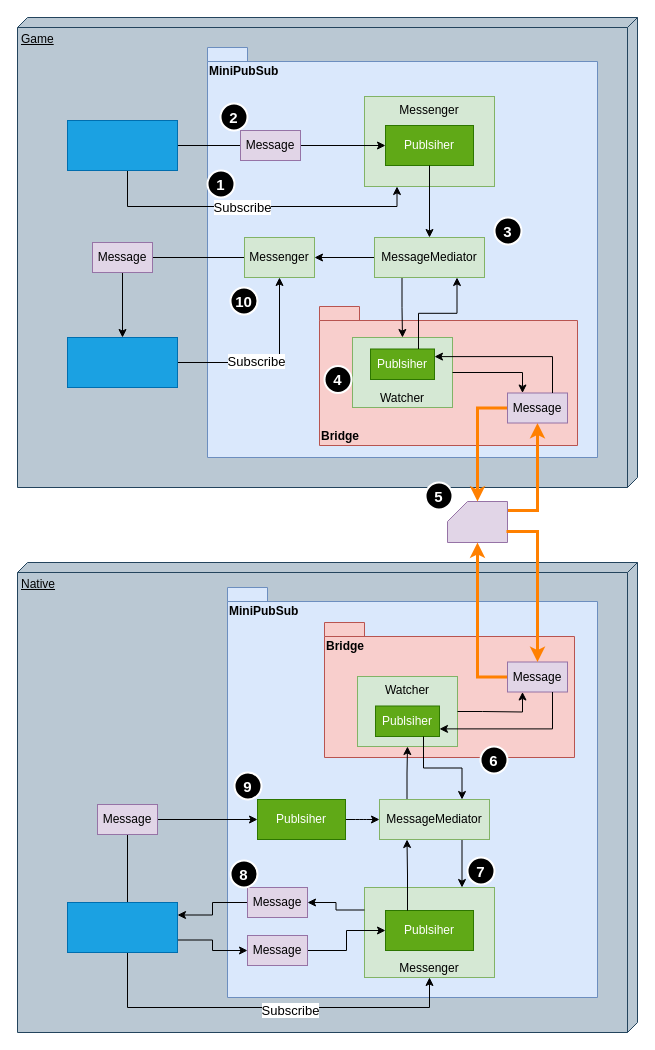
This 655x1050 diagram has some shape labels left out. The centre of each missing label's shape, as x and y in pixels:
Game side object: the point at 122,145
json: the point at 477,521
Native side object: the point at 122,927
Other object: the point at 122,362
